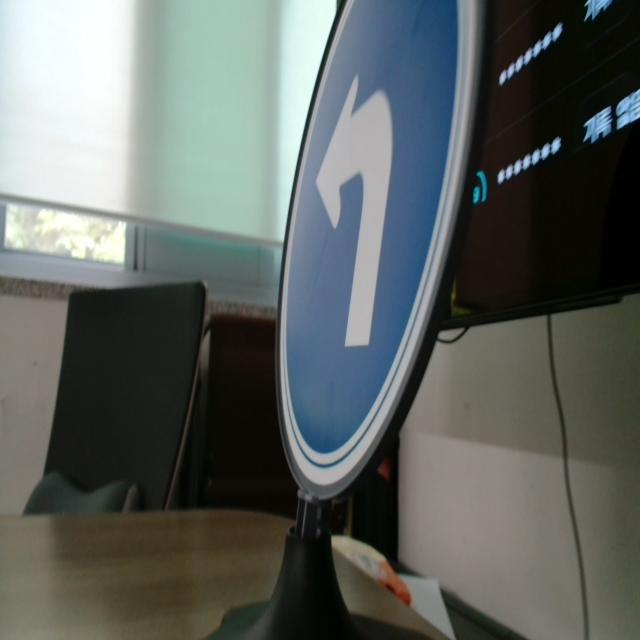left_direction: (262, 8, 484, 500)
